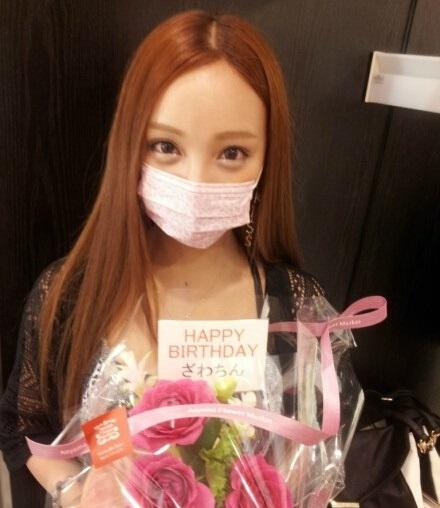OK: (136, 115, 264, 243)
